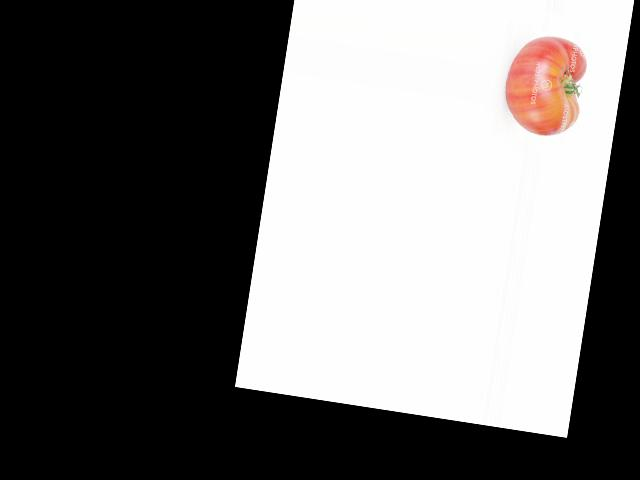tomato: (499, 31, 590, 140)
